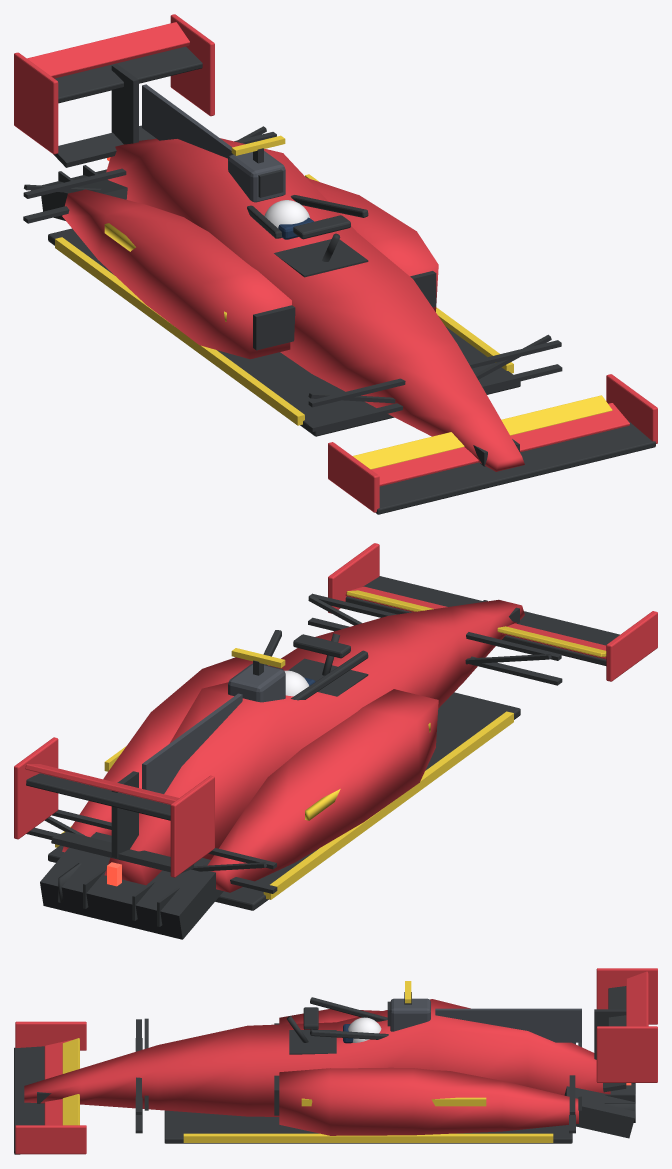
Rendered from formula_car.glb.
3 views of the same model, one above another, from view 1: azimuth 30°, elevation 25°; view 2: azimuth 150°, elevation 25°; view 3: azimuth 270°, elevation 25° (orthographic). The views are drawn at different scales.
Visible parts, largest first — view 1: Monocoque, Sidepod_L, FrontWingMain, FloorPlank, FrontWingFlap1, Sidepod_R, RearWingDRS, FrontWingFlap2, FloorEdgeL, RearEndplate_L, RearWingMain, SharkFin (+17 smaller); view 2: Monocoque, Sidepod_L, Diffuser, Sidepod_R, FloorPlank, FrontWingMain, FloorEdgeL, RearEndplate_L, SharkFin, RearEndplate_R, RearWingMain, FrontEndplate_L (+13 smaller); view 3: Monocoque, Sidepod_R, FloorPlank, RearEndplate_R, FloorEdgeR, SharkFin, Diffuser, FrontEndplate_R, FrontWingMain, FrontEndplate_L, RearEndplate_L, RearWingDRS (+12 smaller).
Part boxes in pixels (x1,y1,x2,y2): Monocoque: (106, 138, 524, 471); Sidepod_L: (62, 189, 291, 359); FrontWingMain: (376, 420, 655, 514); FloorPlank: (48, 228, 520, 436); FrontWingFlap1: (371, 403, 629, 486); Sidepod_R: (307, 178, 438, 311); RearWingDRS: (27, 22, 189, 78); FrontWingFlap2: (352, 395, 612, 469); FloorEdgeL: (55, 237, 304, 425); RearEndplate_L: (14, 52, 58, 154); RearWingMain: (55, 46, 202, 103); SharkFin: (142, 84, 233, 158); Monocoque: (104, 599, 524, 885); Sidepod_L: (207, 689, 438, 892); Diffuser: (40, 832, 223, 939); Sidepod_R: (62, 657, 269, 852); FloorPlank: (48, 692, 520, 910); FrontWingMain: (345, 576, 619, 665); FloorEdgeL: (263, 711, 513, 899); RearEndplate_L: (170, 775, 214, 877); SharkFin: (142, 693, 242, 793); RearEndplate_R: (14, 737, 58, 839); RearWingMain: (26, 773, 170, 820); FrontEndplate_L: (606, 611, 657, 681); Monocoque: (24, 999, 610, 1116); Sidepod_R: (279, 1067, 578, 1135); FloorPlank: (164, 1110, 572, 1143); RearEndplate_R: (596, 1026, 657, 1082); FloorEdgeR: (183, 1133, 553, 1142); SharkFin: (435, 1008, 581, 1042); Diffuser: (564, 1083, 634, 1138); FrontEndplate_R: (15, 1125, 86, 1154); FrontWingMain: (14, 1046, 44, 1154); FrontEndplate_L: (15, 1021, 86, 1050); RearEndplate_L: (596, 968, 657, 1024); RearWingDRS: (626, 971, 648, 1026).
Size of the model in its own units: 1.96 by 1.06 by 5.05.
